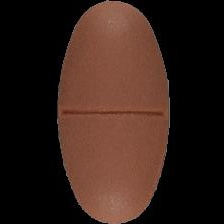66267-212: (0, 0, 224, 224)
